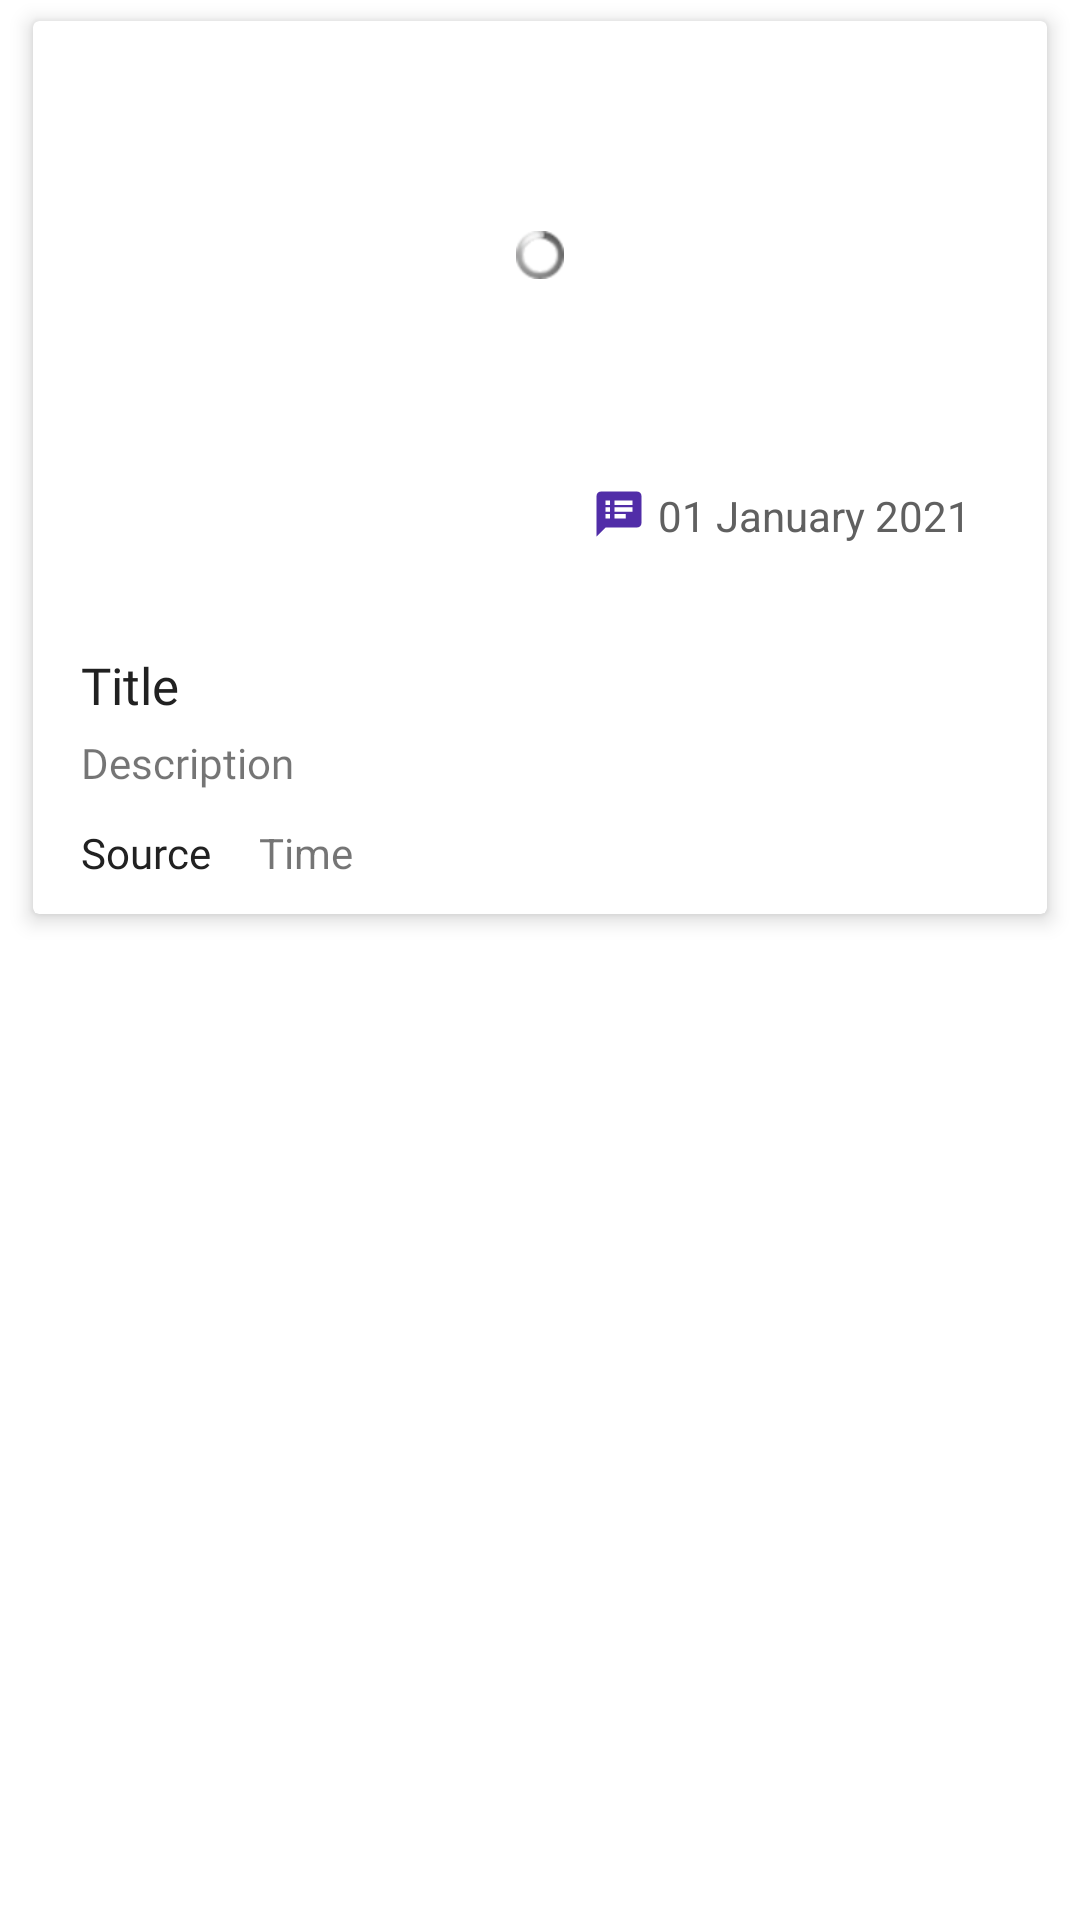

Named icons in this screenshot (1080w x 1920h) and their centers, (x,y):
news: (619,514)
